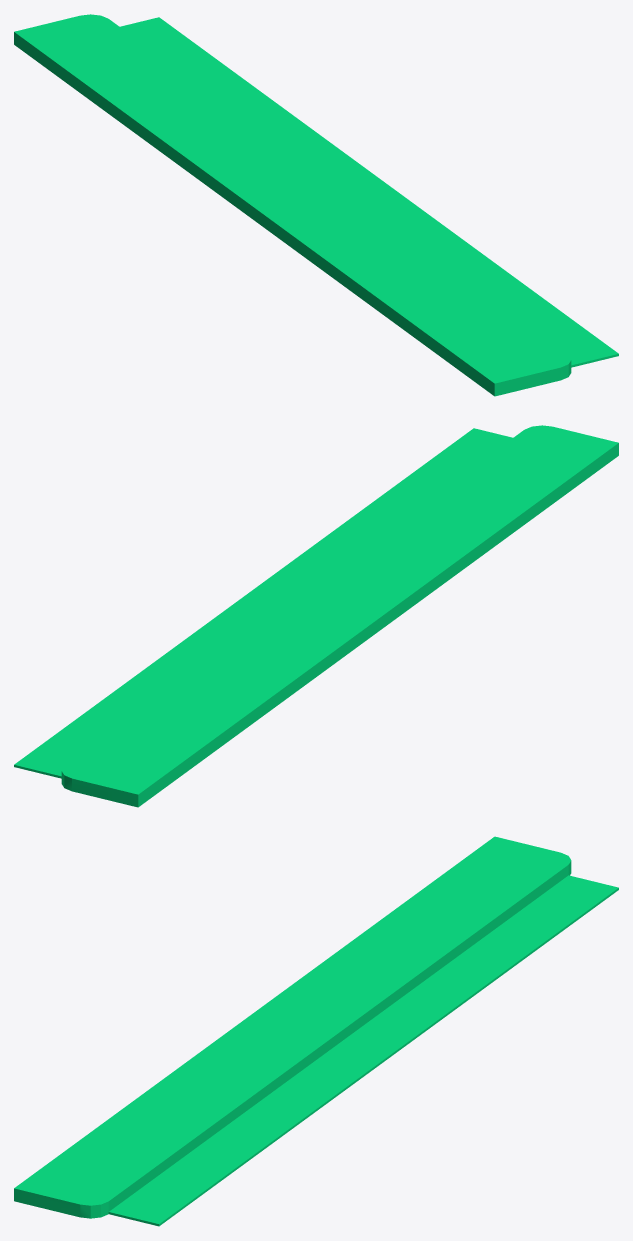
The model's file is Parking.fbx.
3 views of the same model, one above another, from view 1: azimuth 30°, elevation 25°; view 2: azimuth 150°, elevation 25°; view 3: azimuth 330°, elevation 25° (orthographic).
Visible parts, largest first — view 1: Parking; view 2: Parking; view 3: Parking.
Part boxes in pixels (x1=…): Parking: x1=14, y1=14, x2=618, y2=396; Parking: x1=14, y1=425, x2=618, y2=807; Parking: x1=14, y1=836, x2=618, y2=1226.
Size of the model in its own units: 26.41 by 2.42 by 163.
